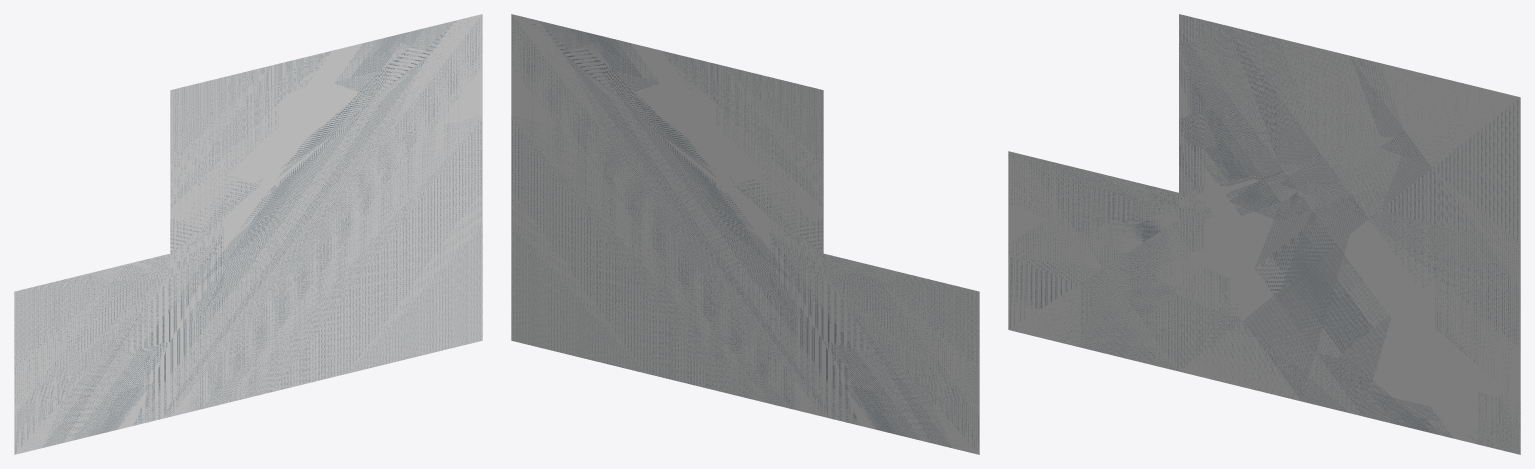
Rendered from Test dimension.fbx.
3 renders of one model, left to right at view 1: azimuth 30°, elevation 25°; view 2: azimuth 150°, elevation 25°; view 3: azimuth 330°, elevation 25°, orthographic. The views are drawn at different scales.
Parts seen in each view (by area): view 1: Model; view 2: Model; view 3: Model.
Part boxes in pixels (bbox=[...]): Model: bbox=[14, 14, 482, 454]; Model: bbox=[511, 14, 979, 454]; Model: bbox=[1008, 14, 1520, 454].
Bounding box in the file's own units: 3 × 2 × 0.
